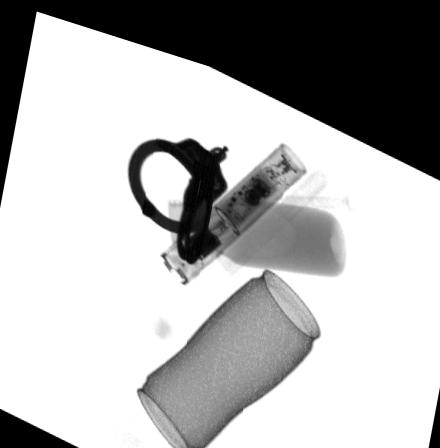Baton: (157, 122, 309, 275)
HandCuffs: (125, 122, 230, 251)
